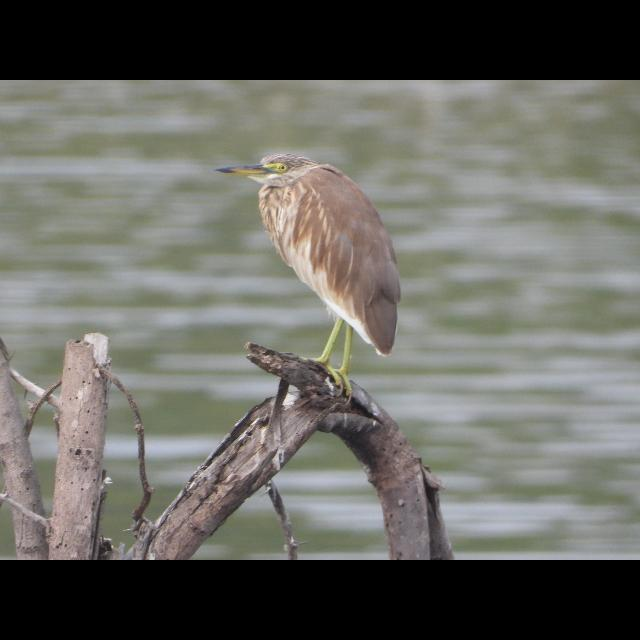heron: (216, 144, 414, 402)
